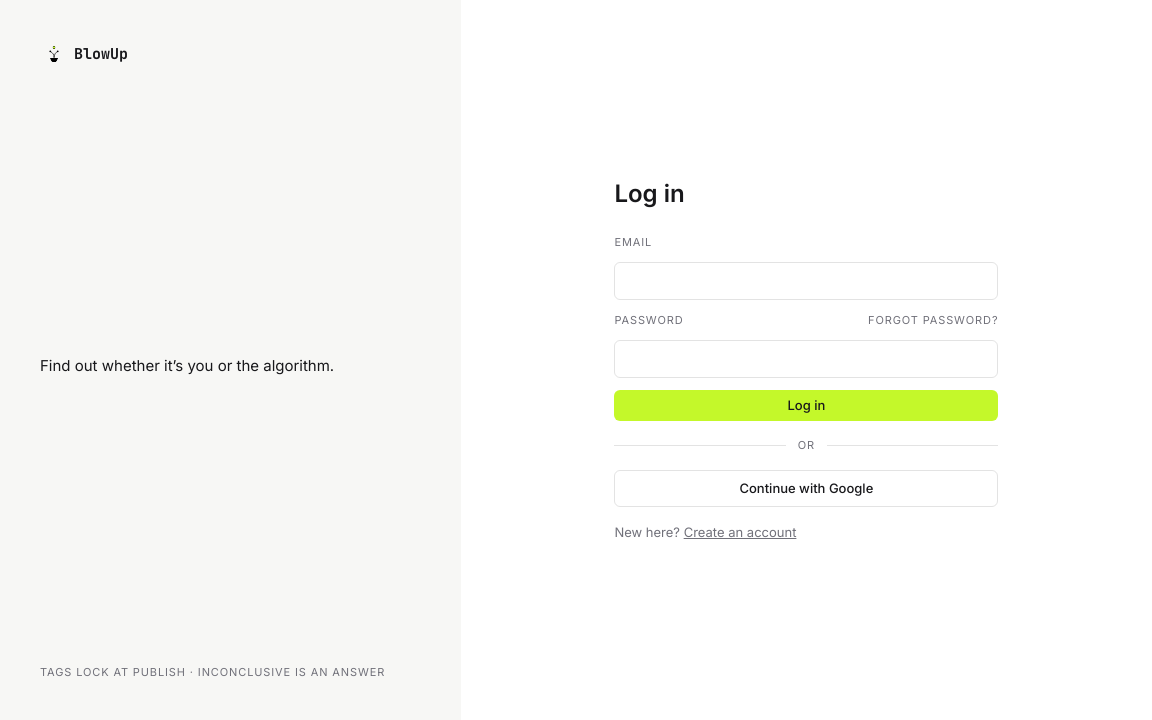
Test: login failure shows the exact S17 error copy and clears password
Type "max@x.com" into the field labelled "Email" at (806, 281), box top-left (614, 262), bottom-right (998, 300)
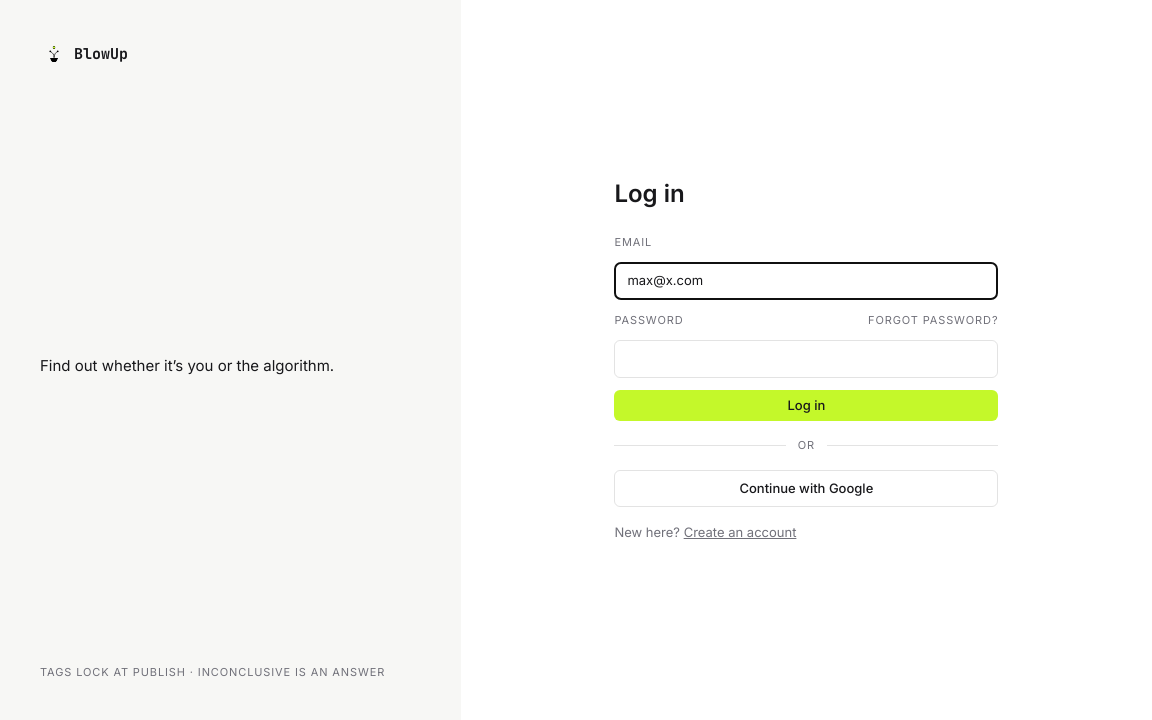
Type "wrong" into the password field labelled "Password" at (806, 359), box top-left (614, 340), bottom-right (998, 378)
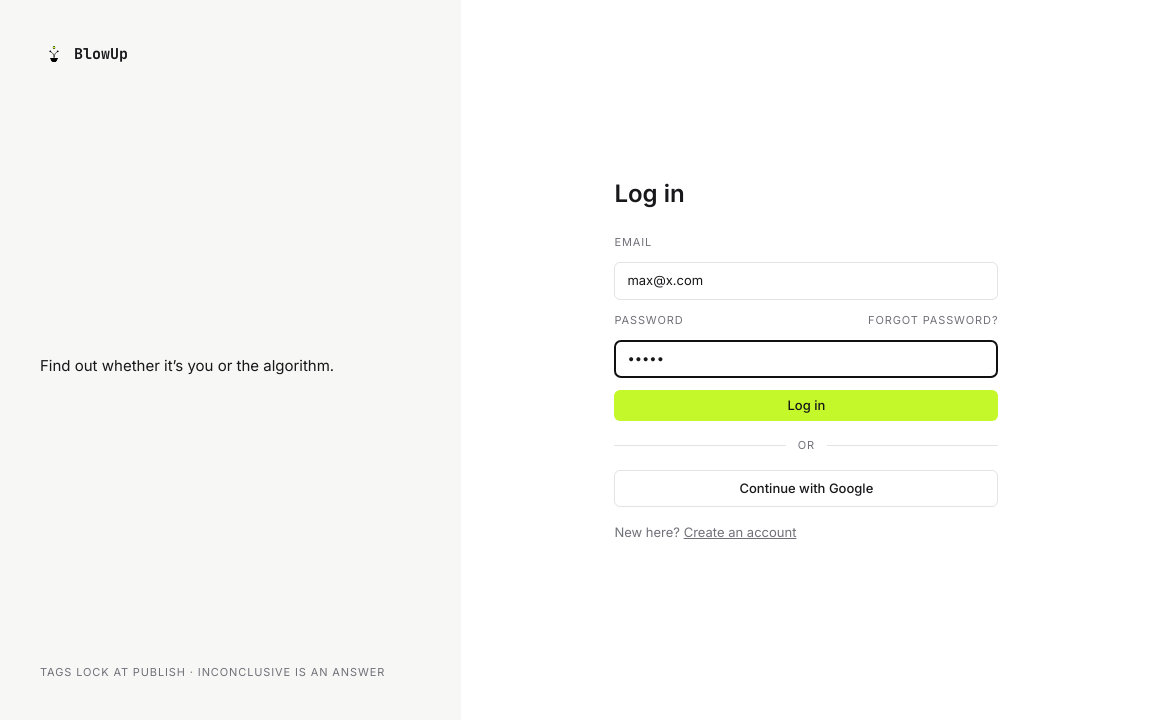
Click the button "Log in" at (806, 405), box top-left (614, 390), bottom-right (998, 421)
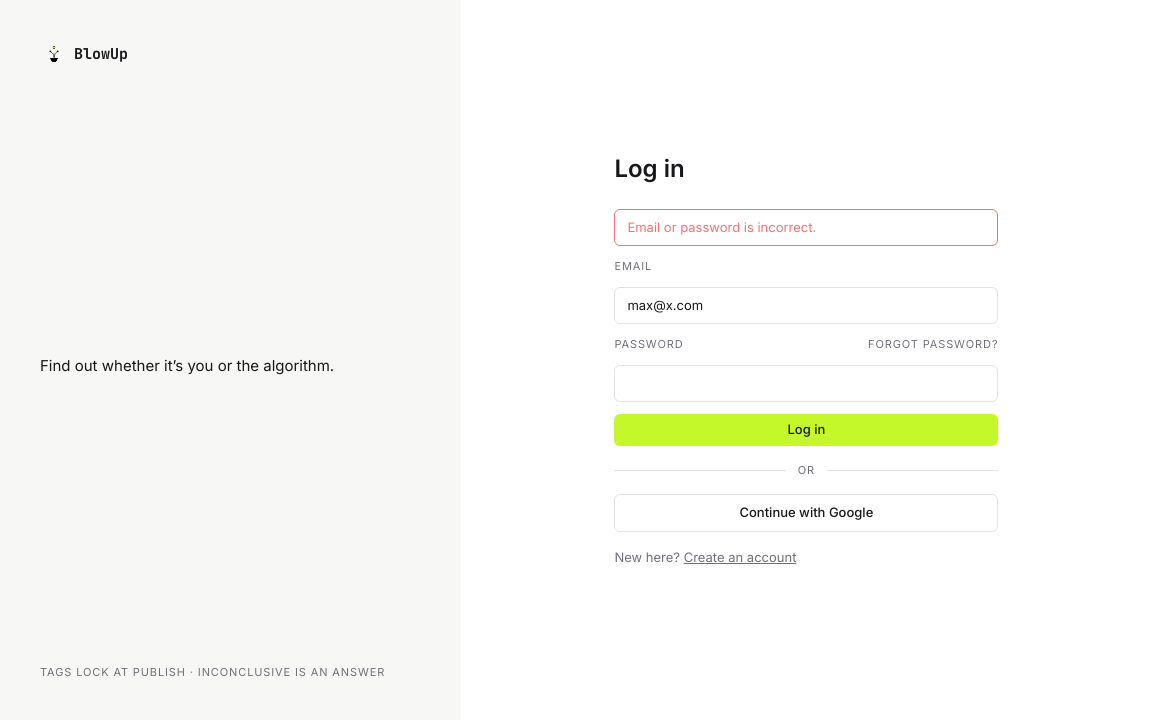
expect the text "Email or password is incorrect." is shown: met, box top-left (614, 209), bottom-right (998, 246)
expect the password field labelled "Password" is empty: met, box top-left (614, 365), bottom-right (998, 402)
